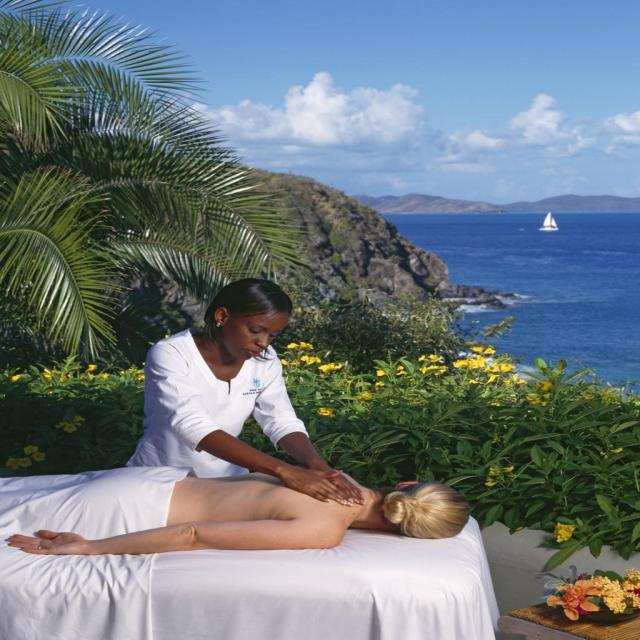nomask: (227, 316, 283, 359)
